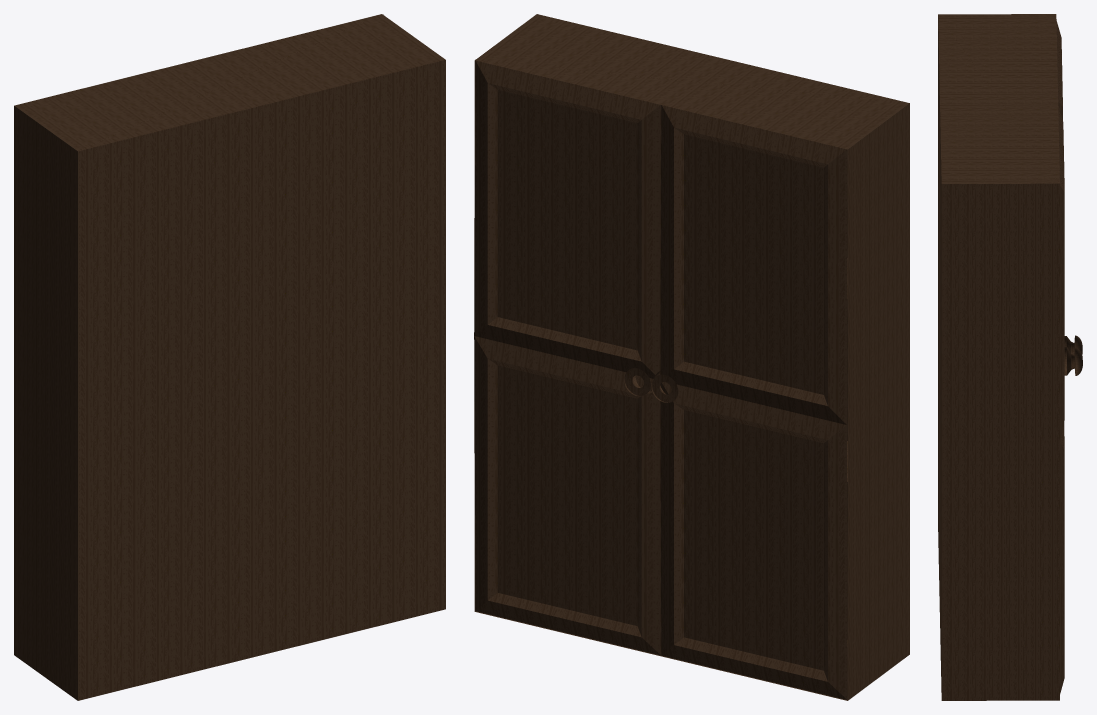
Rendered from dressing.glb.
3 views of the same model, side by side, from view 1: azimuth 30°, elevation 25°; view 2: azimuth 150°, elevation 25°; view 3: azimuth 270°, elevation 25° (orthographic). The views are drawn at different scales.
Visible parts, largest first — view 1: Meuble vitrée; view 2: Meuble vitrée; view 3: Meuble vitrée.
Boxes of the visible parts, x1=… form: Meuble vitrée: x1=14, y1=14, x2=445, y2=700; Meuble vitrée: x1=474, y1=14, x2=909, y2=700; Meuble vitrée: x1=938, y1=14, x2=1082, y2=700.
Size of the model in its own units: 15.28 by 21.63 by 5.49.
1 material, 1 textured.
